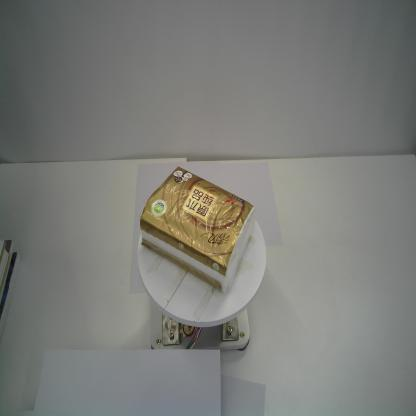Tissue: (139, 166, 256, 293)
